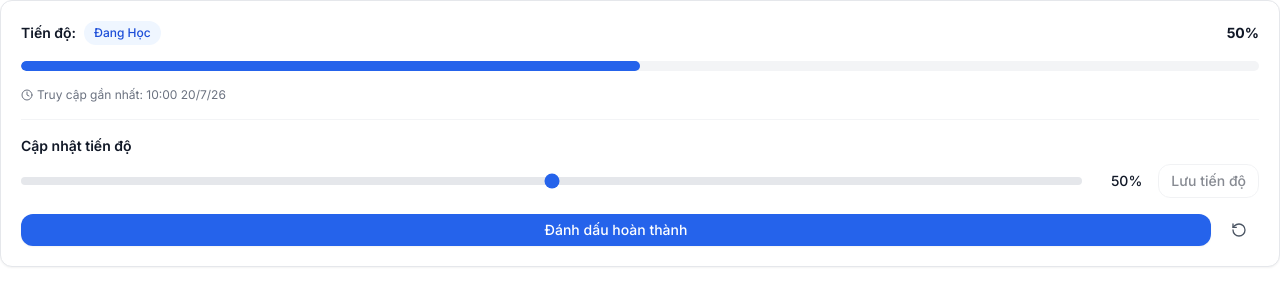
Scenario: LearningProgressControls › Reset action › resets draft on success
# dirty the draft first
Set the slider to "90" at (970, 181), box x1=21 y1=177 x2=1082 y2=185
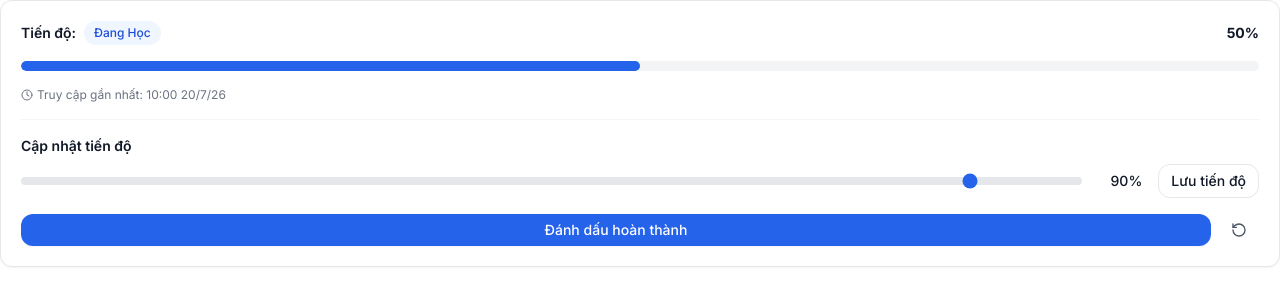
Click the button named "Đặt lại" at (1239, 230), box x1=1219 y1=216 x2=1259 y2=244
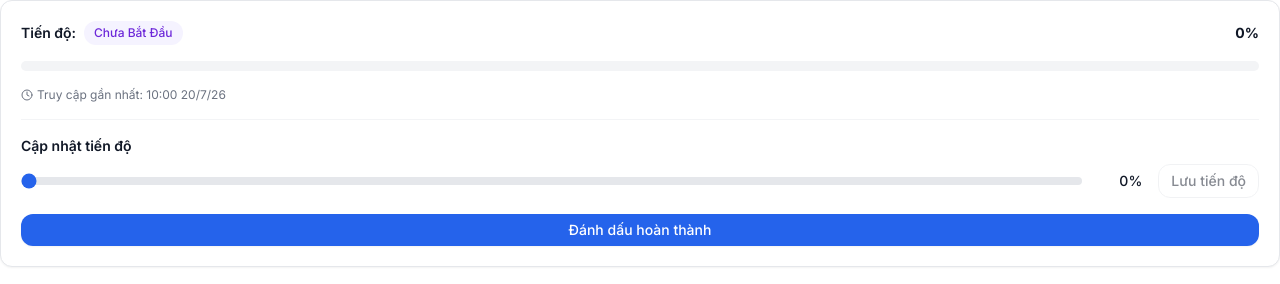
expect the slider holds "0": met, box x1=21 y1=177 x2=1082 y2=185
expect the button "Lưu tiến độ" is disabled: met, box x1=1158 y1=164 x2=1259 y2=198
